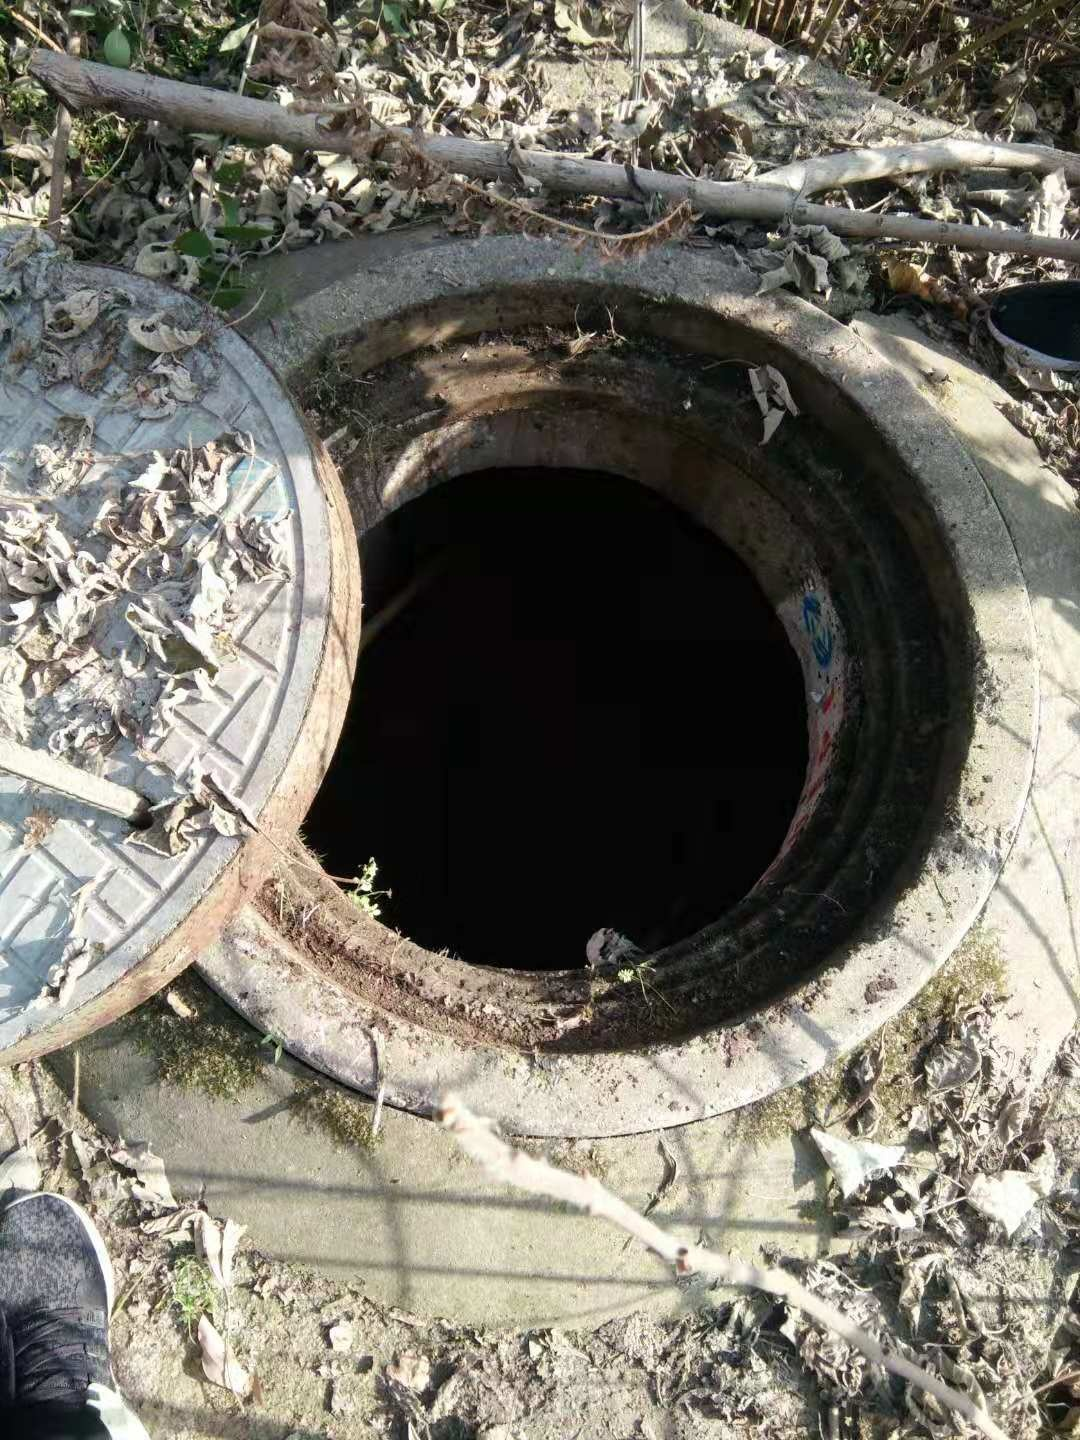uncovered: (10, 238, 1037, 1145)
